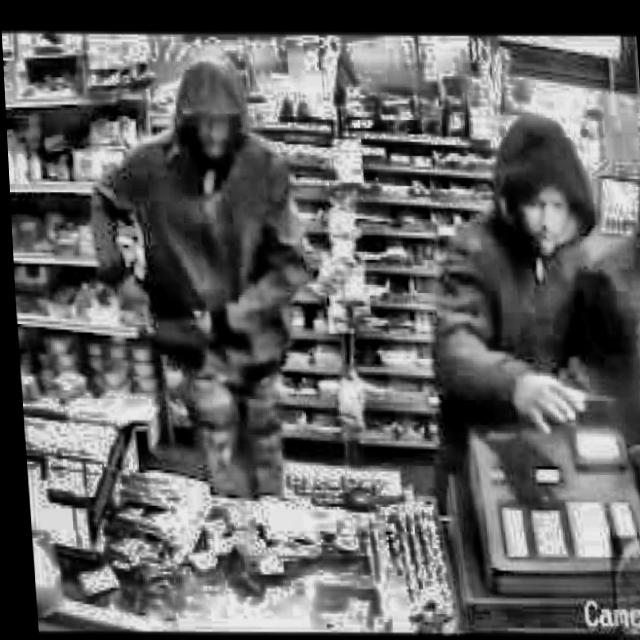robbery: (74, 48, 335, 498), (407, 103, 640, 486)
